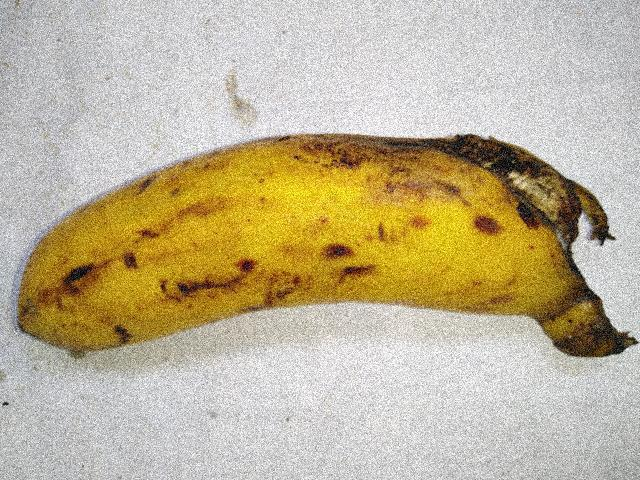ripe: (8, 113, 406, 360)
rotten: (383, 79, 631, 305)
